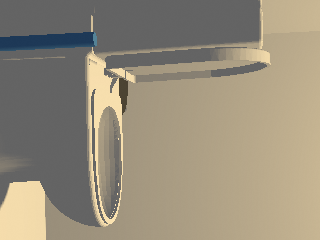lid_1: (103, 49, 272, 84)
